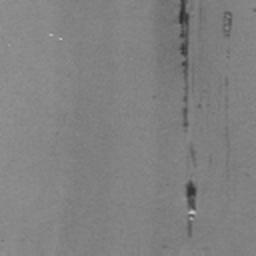Slag inclusion: (175, 0, 192, 104), (184, 177, 198, 212), (221, 8, 236, 38), (184, 220, 195, 238), (188, 142, 196, 164), (182, 106, 189, 129)
